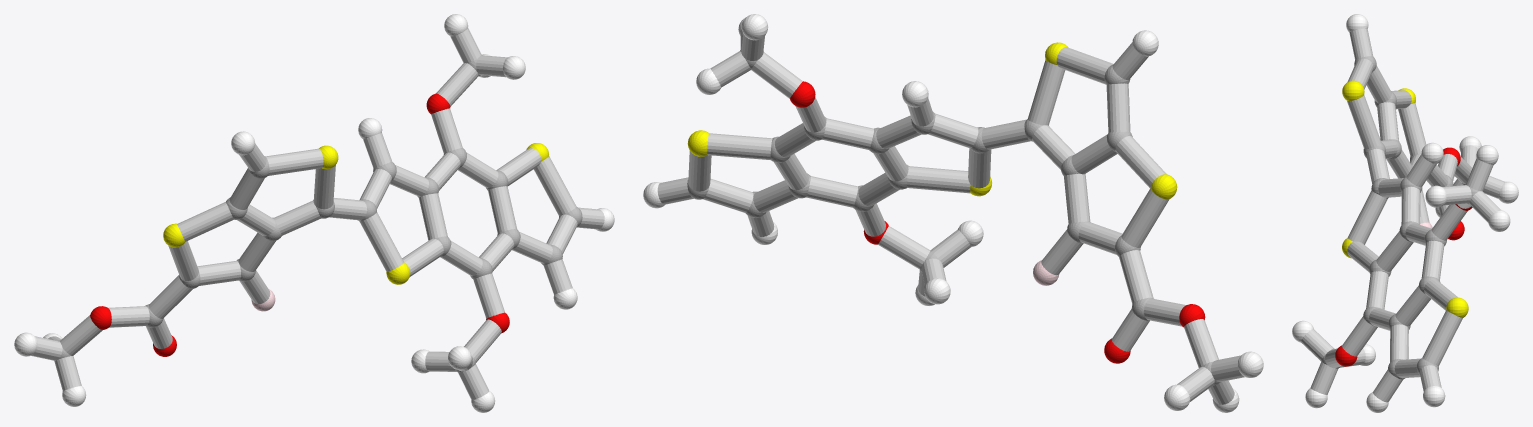
Rendered from color.glb.
3 views of the same model, side by side, from view 1: azimuth 30°, elevation 25°; view 2: azimuth 150°, elevation 25°; view 3: azimuth 270°, elevation 25° (orthographic). The views are drawn at different scales.
Visible parts, largest first — view 1: grp15205, grp8689, grp1, grp7241, grp13395; view 2: grp15205, grp8689, grp1, grp7241, grp13395; view 3: grp15205, grp8689, grp1, grp7241, grp13395.
Boxes of the visible parts, bbox=[...] form: grp15205: bbox=[31, 28, 604, 399]; grp8689: bbox=[14, 14, 614, 412]; grp1: bbox=[58, 55, 582, 372]; grp7241: bbox=[163, 143, 548, 284]; grp13395: bbox=[90, 93, 509, 356]; grp15205: bbox=[657, 30, 1244, 404]; grp8689: bbox=[643, 14, 1263, 412]; grp1: bbox=[687, 48, 1220, 385]; grp7241: bbox=[687, 42, 1177, 199]; grp13395: bbox=[790, 81, 1205, 363]; grp15205: bbox=[1301, 28, 1504, 402]; grp8689: bbox=[1292, 14, 1518, 412]; grp1: bbox=[1321, 56, 1479, 379]; grp7241: bbox=[1342, 80, 1468, 317]; grp13395: bbox=[1335, 147, 1472, 366].
Size of the model in its own units: 16.63 by 8.71 by 6.09.
